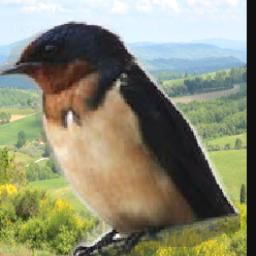Swallow: (0, 18, 242, 256)
